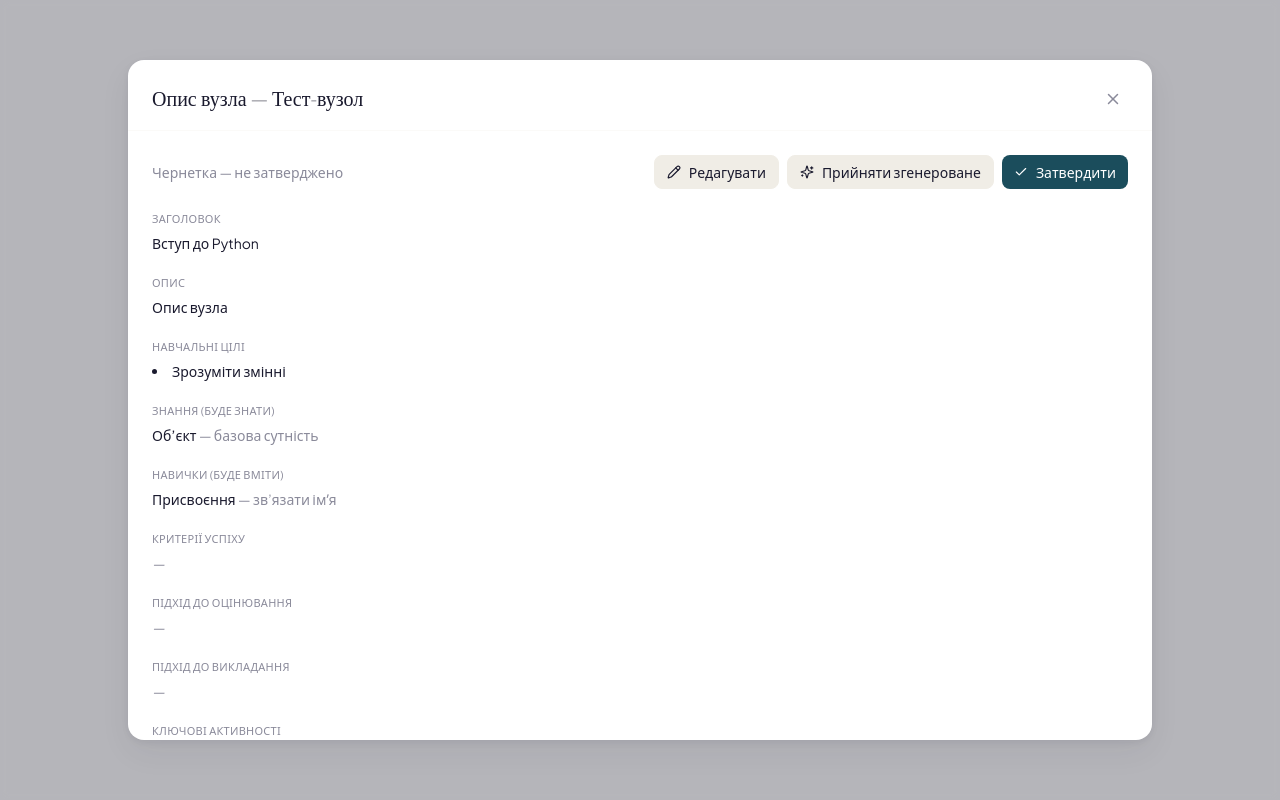
Scenario: SummaryModal — overview mode (Task 3.2.5b c3) › shows a human PATCH 422 message, not silence
The image size is (1280, 800).
Step 1. Click the button "Редагувати" → (716, 172), box [654, 155, 779, 189]
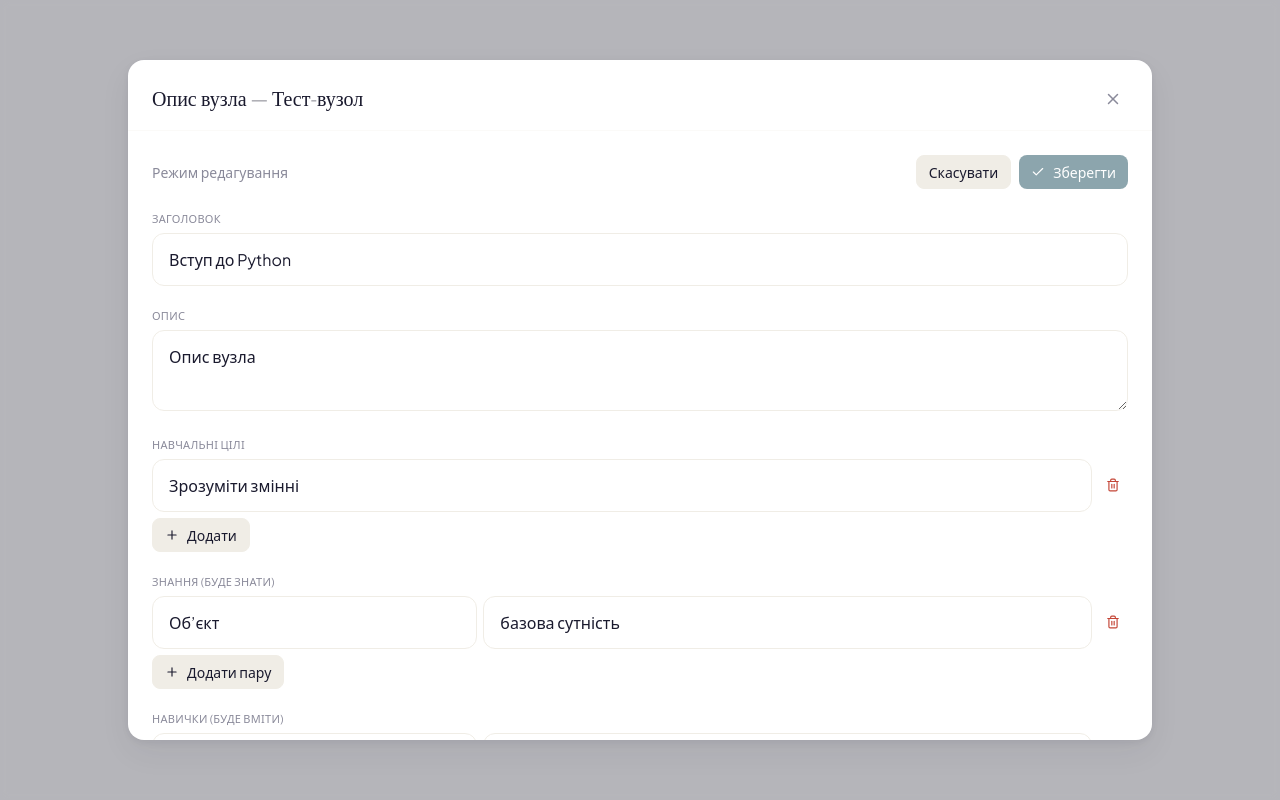
Step 2. Replace the text in the field showing "Вступ до Python" below "Заголовок" with "Змінено" → (640, 260), box [152, 233, 1128, 286]
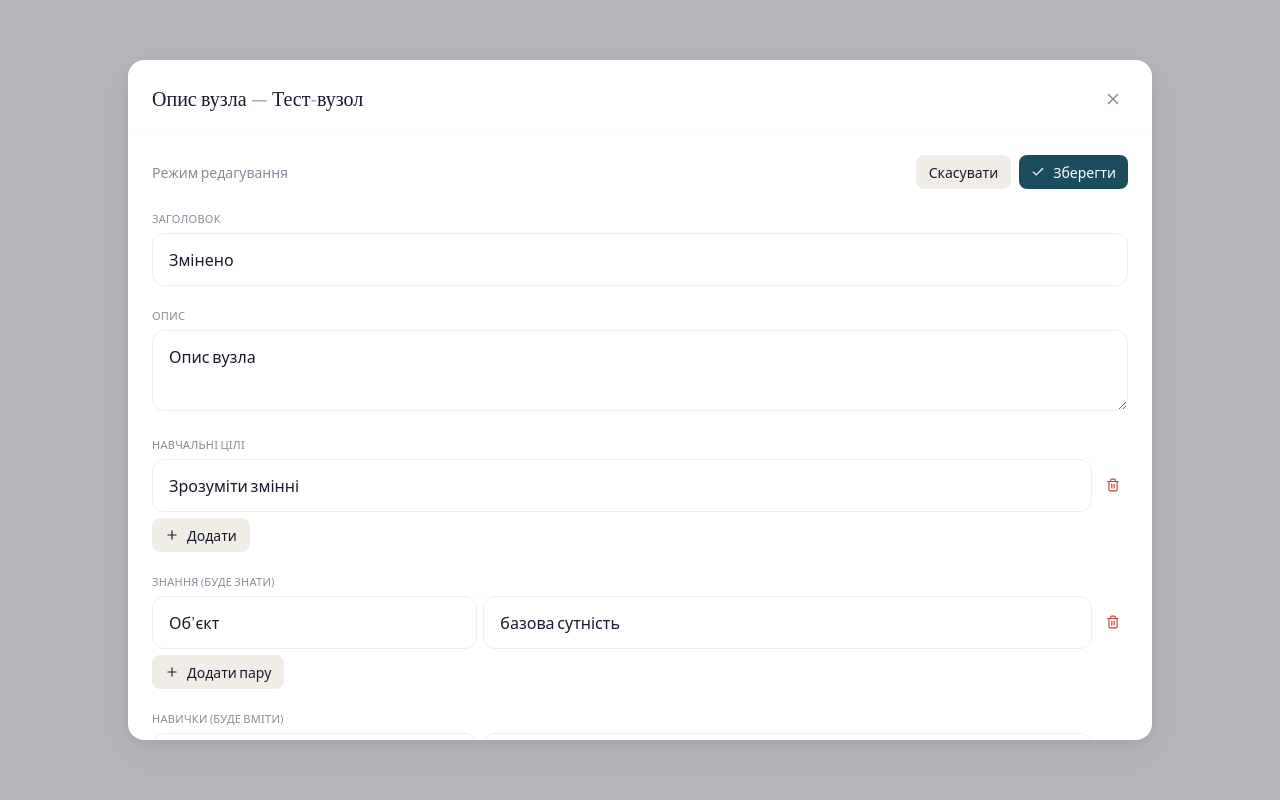
Step 3. Click the button "Зберегти" → (1074, 172), box [1019, 155, 1128, 189]
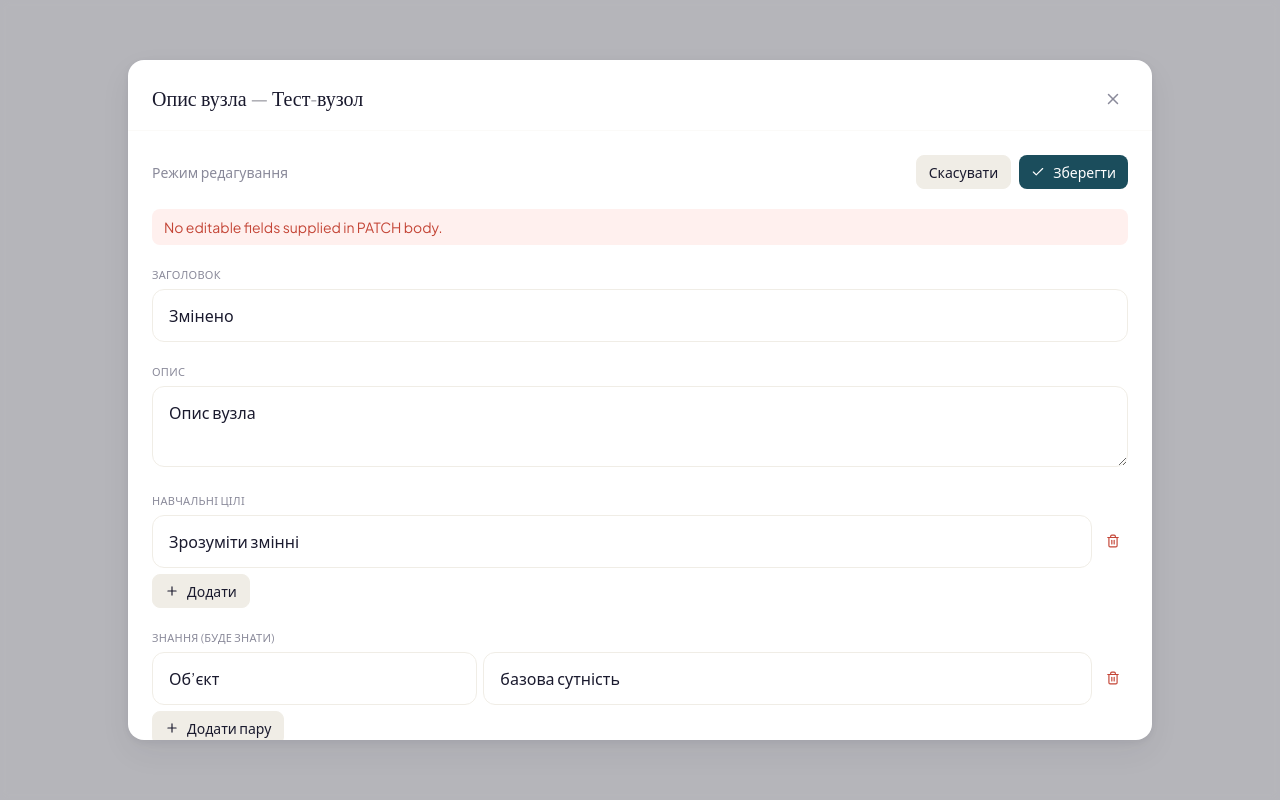
Expected: the text "No editable fields supplied in PATCH body." is shown, [152, 209, 1128, 245]
